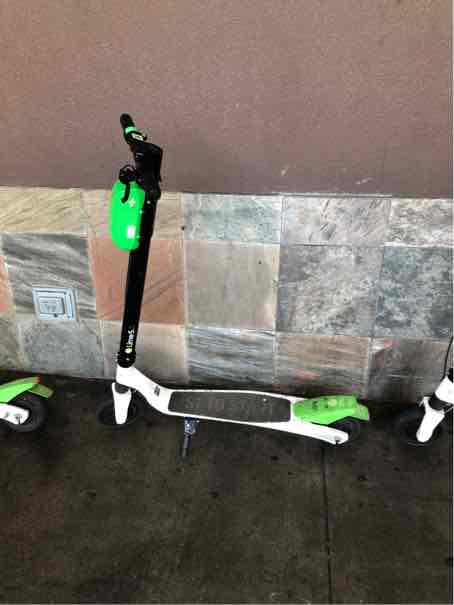scooter: (85, 101, 372, 462)
